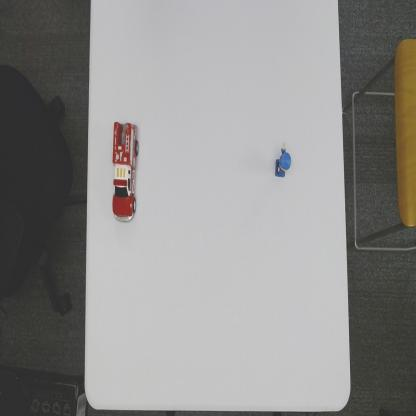Firetruck: (111, 121, 139, 224)
